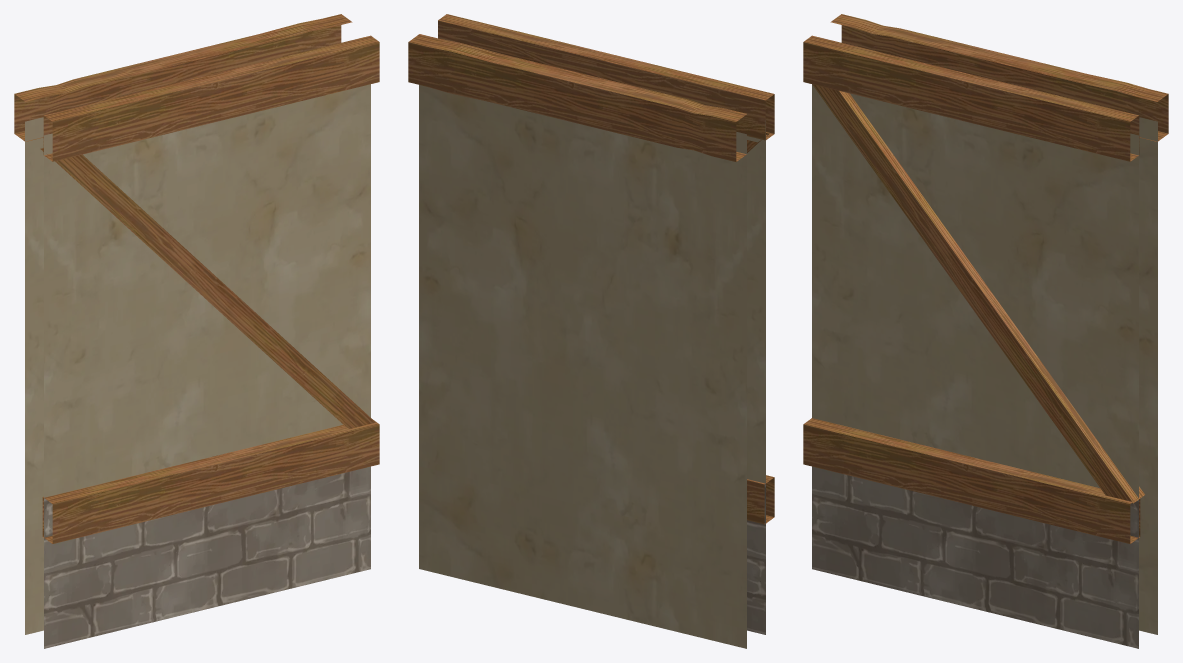
Rendered from wall_plaster_straight_l.glb.
3 views of the same model, side by side, from view 1: azimuth 30°, elevation 25°; view 2: azimuth 150°, elevation 25°; view 3: azimuth 330°, elevation 25° (orthographic).
Size of the model in its own units: 2 by 3.12 by 0.4066.
3 materials, 3 textured.
